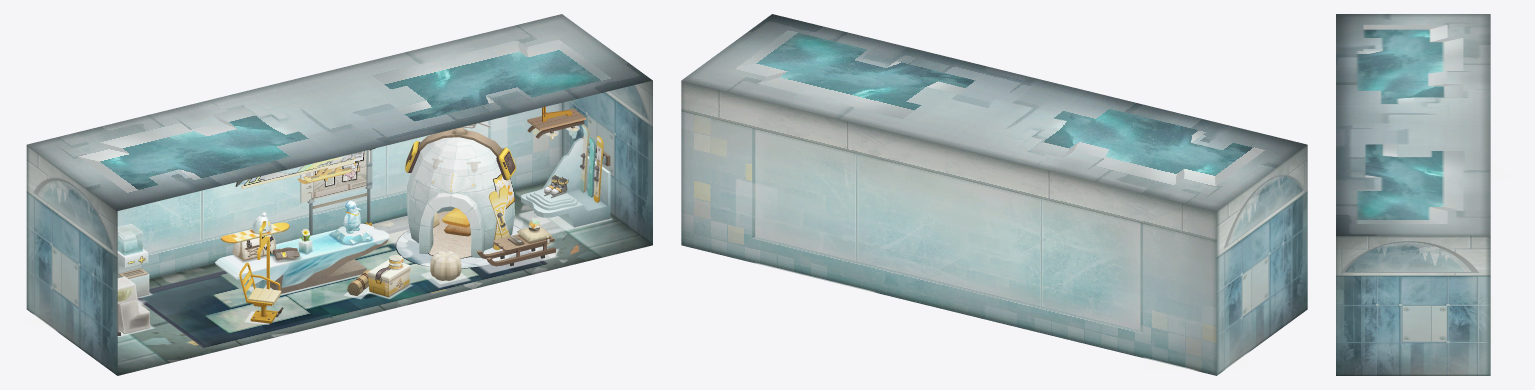
The model's file is snowVenue.glb.
The picture shows the model from 3 angles, left to right: view 1: azimuth 30°, elevation 25°; view 2: azimuth 150°, elevation 25°; view 3: azimuth 270°, elevation 25°; orthographic projection. The views are drawn at different scales.
Visible parts, largest first — view 1: ROOM_room, ROOM_floor, furni_snowVenue_iceHouse_01, furni_snowVenue_table1_01, furni_snowVenue_shelf_01, furni_snowVenue_board2_01, furni_snowVenue_table2_01, shadow_01.008, furni_snowVenue_chair_01, furni_snowVenue_box_01, ROOM_LDoor, ROOM_RDoor (+11 smaller); view 2: ROOM_room, ROOM_LDoor, shadow_01; view 3: ROOM_room, ROOM_RDoor, shadow_01, shadow_01.008.
Boxes of the visible parts, bbox=[...] form: ROOM_room: bbox=[26, 14, 652, 375]; ROOM_floor: bbox=[117, 183, 652, 375]; furni_snowVenue_iceHouse_01: bbox=[405, 122, 515, 257]; furni_snowVenue_table1_01: bbox=[215, 200, 389, 293]; furni_snowVenue_shelf_01: bbox=[521, 124, 610, 227]; furni_snowVenue_board2_01: bbox=[300, 149, 374, 235]; furni_snowVenue_table2_01: bbox=[477, 219, 555, 266]; shadow_01.008: bbox=[372, 215, 553, 271]; furni_snowVenue_chair_01: bbox=[239, 221, 283, 323]; furni_snowVenue_box_01: bbox=[347, 255, 410, 297]; ROOM_LDoor: bbox=[85, 277, 103, 365]; ROOM_RDoor: bbox=[621, 147, 639, 235]; ROOM_room: bbox=[681, 14, 1307, 375]; ROOM_LDoor: bbox=[1275, 244, 1294, 332]; shadow_01: bbox=[1143, 352, 1250, 371]; ROOM_room: bbox=[1336, 14, 1490, 375]; ROOM_RDoor: bbox=[1358, 312, 1390, 375]; shadow_01: bbox=[1490, 161, 1513, 183]; shadow_01.008: bbox=[1490, 294, 1495, 344].
Bounding box in the file's own units: 7.84 × 2.2 × 2.63.
Materials: 7 (7 with a texture image).
